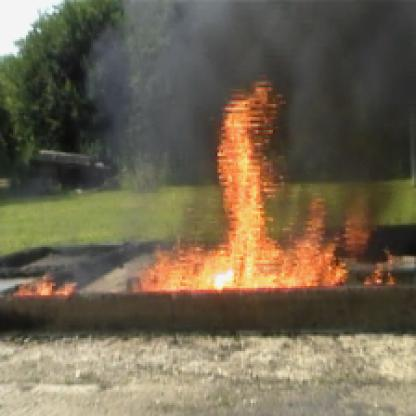Fire: (126, 78, 351, 295), (9, 270, 82, 296)
Smoke: (171, 2, 414, 87)
